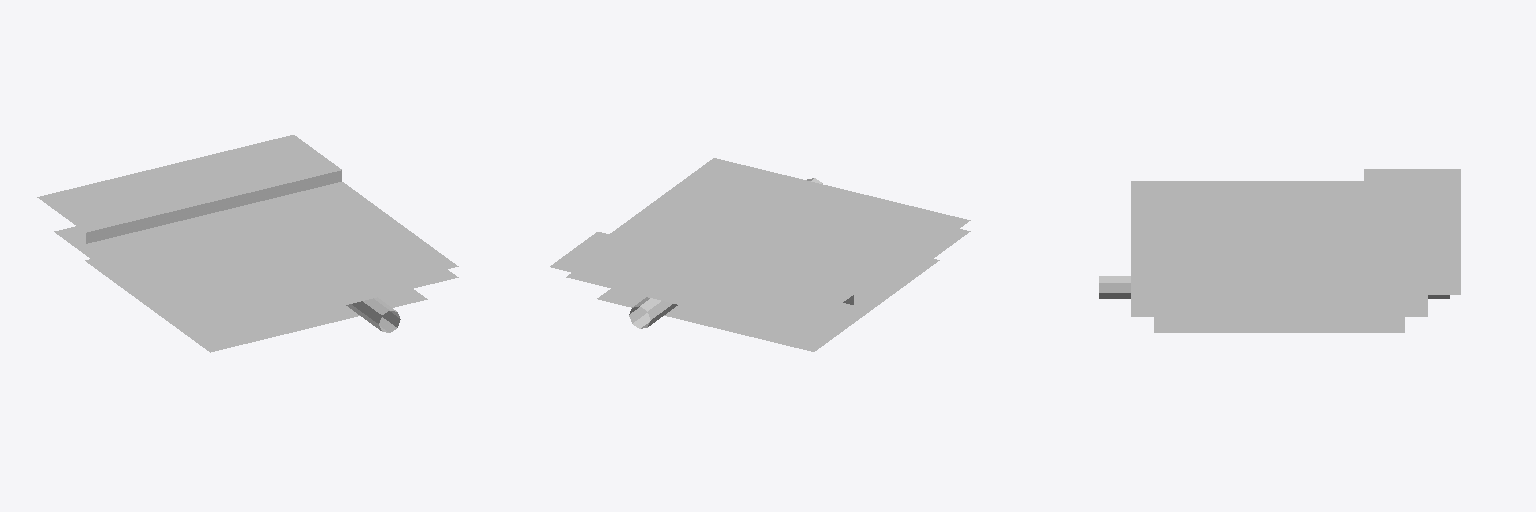
Rendered from 4x4_street.obj.
3 renders of one model, left to right at view 1: azimuth 30°, elevation 25°; view 2: azimuth 150°, elevation 25°; view 3: azimuth 270°, elevation 25°, orthographic.
Visible parts, largest first — view 1: Plane; view 2: Plane; view 3: Plane.
Part boxes in pixels (x1,y1,x2,y2): Plane: (37, 135, 458, 352); Plane: (550, 158, 970, 351); Plane: (1099, 169, 1460, 332).
Size of the model in its own units: 4 by 0.7106 by 4.88.